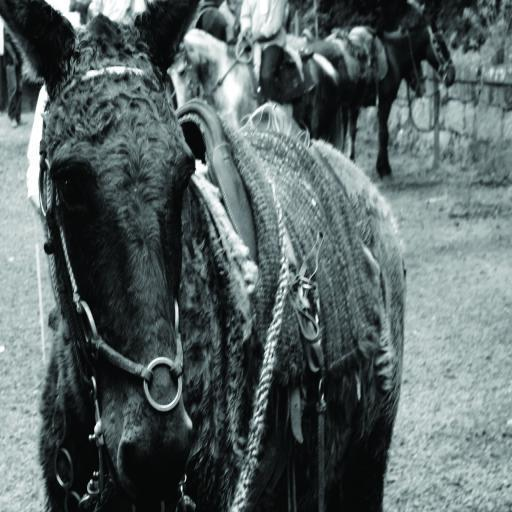horse: (0, 0, 405, 511)
